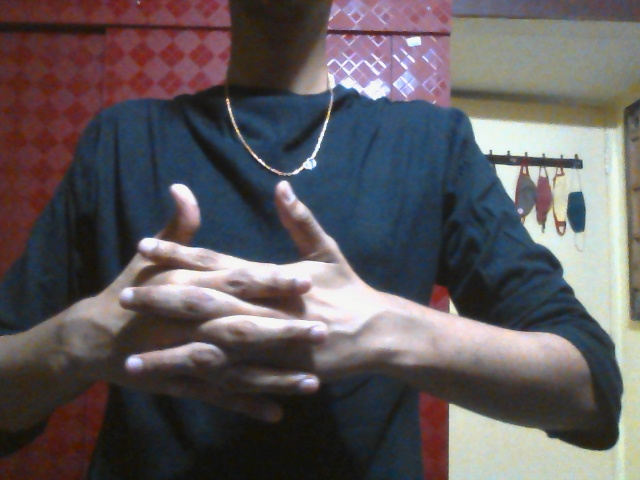W: (104, 178, 388, 424)
